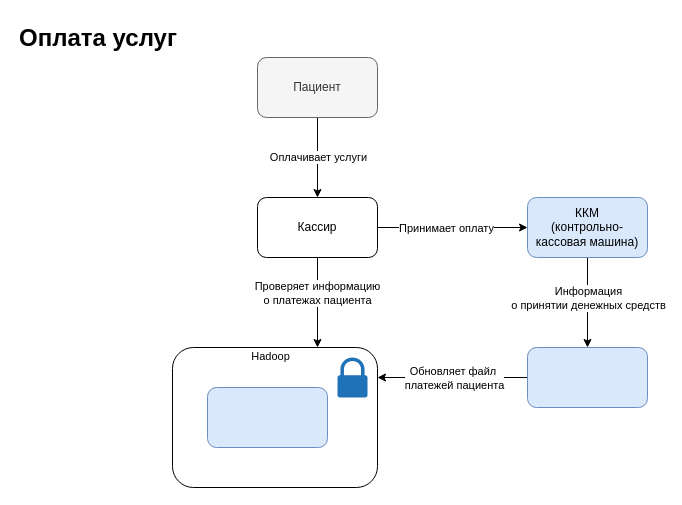
Image size: 682x505. Some labels were removed from this diagram. The centre of each missing label's shape, as x and y in pixels:
"1С Бухгалтерия" belongs at [587,377].
"Таблица данных пациентов" belongs at [267,417].
